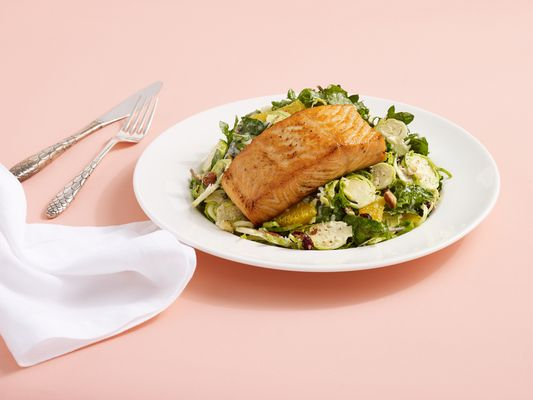burger: (45, 82, 162, 218), (9, 83, 162, 184)
